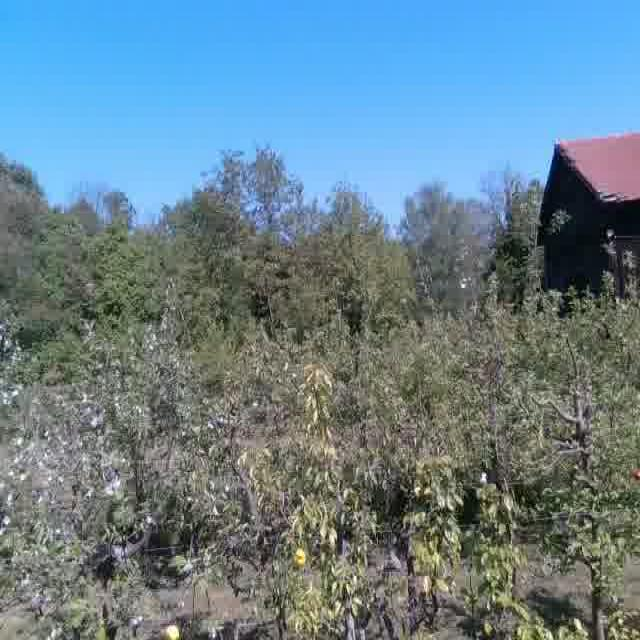red: (632, 464, 640, 487)
yellow: (288, 546, 309, 570), (159, 622, 184, 640)
